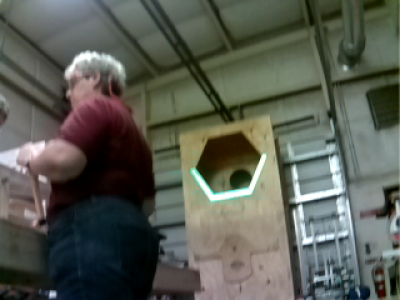target: (189, 153, 267, 201)
